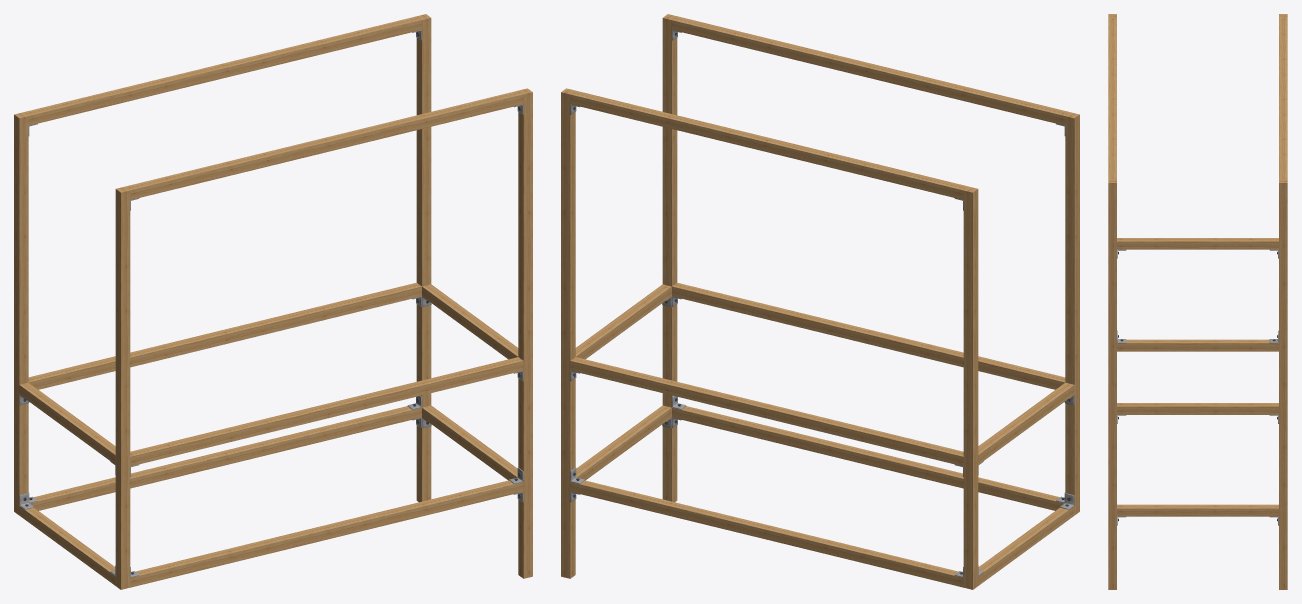
3 renders of one model, left to right at view 1: azimuth 30°, elevation 25°; view 2: azimuth 150°, elevation 25°; view 3: azimuth 270°, elevation 25°, orthographic. The views are drawn at different scales.
Parts seen in each view (by area): view 1: Куб.004, Куб.009, Куб.008, Куб.010, Куб.005, Куб.006, Куб.007, Куб.011, Куб.012, Куб.013, Куб.001, Куб.002 (+2 smaller); view 2: Куб.009, Куб.004, Куб.013, Куб.005, Куб.010, Куб.011, Куб.012, Куб.006, Куб.007, Куб.008, Куб.001, Куб.002 (+2 smaller); view 3: Куб.004, Куб.009, Куб.003, Куб.014, Куб.001, Куб.002, Куб.005, Куб.010.
Part boxes in pixels (x1,y1,x2,y2): Куб.004: (518,88,532,578); Куб.009: (416,14,431,502); Куб.008: (115,186,130,589); Куб.010: (23,16,421,125); Куб.005: (125,90,523,199); Куб.006: (130,357,523,466); Куб.007: (130,480,523,587); Куб.011: (28,282,421,389); Куб.012: (29,406,421,510); Куб.013: (14,112,28,514); Куб.001: (19,382,115,464); Куб.002: (422,284,518,359); Куб.009: (561,88,575,578); Куб.004: (662,14,677,502); Куб.013: (963,186,978,589); Куб.005: (672,16,1070,125); Куб.010: (570,90,968,199); Куб.011: (570,357,963,466); Куб.012: (570,480,963,587); Куб.006: (672,282,1065,389); Куб.007: (672,406,1064,510); Куб.008: (1065,112,1079,514); Куб.001: (978,382,1074,464); Куб.002: (575,284,671,359); Куб.004: (1108,179,1116,589); Куб.009: (1279,179,1287,589); Куб.003: (1117,504,1278,516); Куб.014: (1117,339,1278,351); Куб.001: (1117,238,1278,249); Куб.002: (1117,403,1278,414); Куб.005: (1108,17,1116,178); Куб.010: (1279,17,1287,178).
Size of the model in its own units: 1.78 by 2 by 0.8.
Materials: 3 (3 with a texture image).
